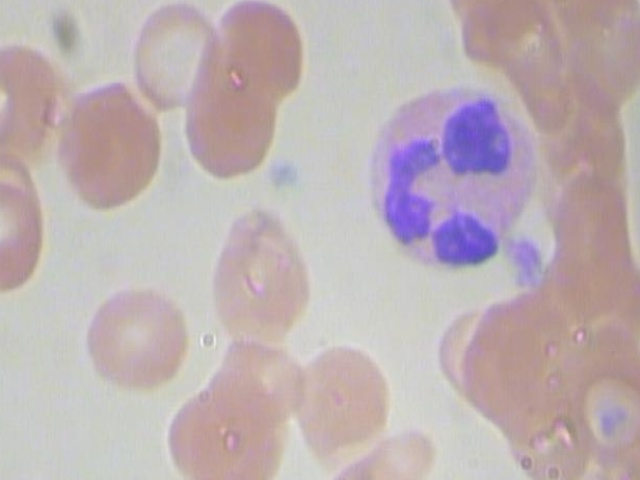Platelets: (500, 230, 546, 289)
RBC: (202, 197, 317, 353), (49, 78, 169, 216), (157, 376, 292, 480), (285, 341, 395, 467), (77, 279, 195, 396), (170, 69, 278, 179), (122, 0, 221, 118), (207, 0, 315, 94), (321, 423, 443, 480)
WBC: (359, 75, 541, 273)
